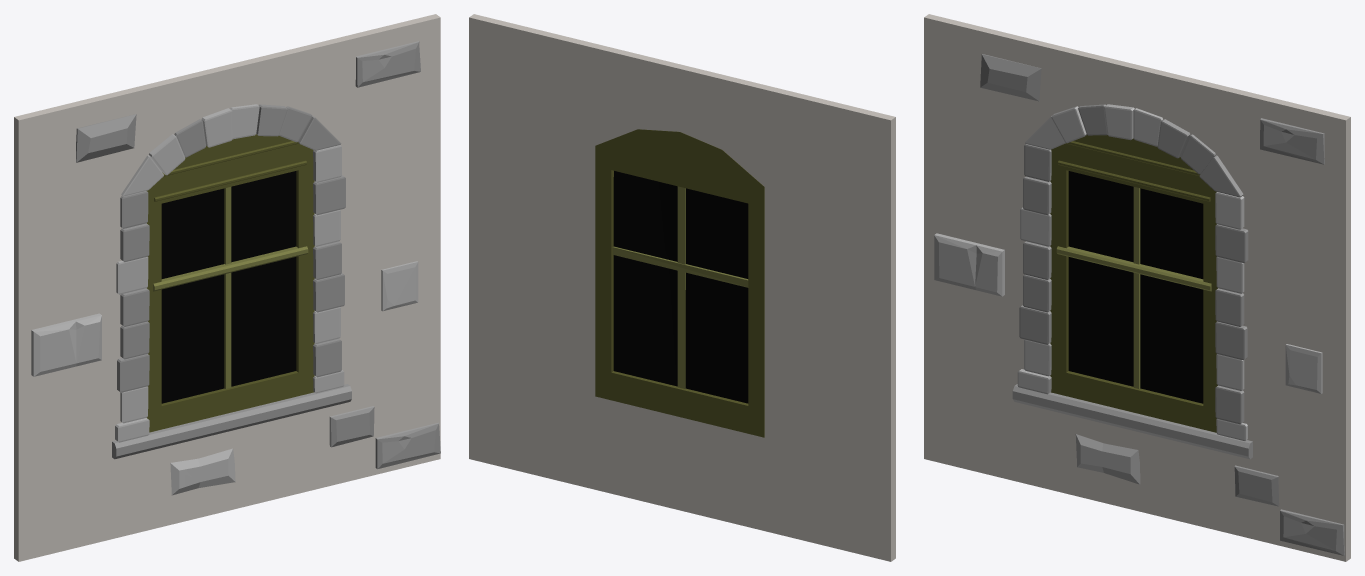
The model's file is _WINDOW_05_1.fbx.
3 views of the same model, side by side, from view 1: azimuth 30°, elevation 25°; view 2: azimuth 150°, elevation 25°; view 3: azimuth 330°, elevation 25° (orthographic).
Parts seen in each view (by area): view 1: WINDOW_05_1; view 2: WINDOW_05_1; view 3: WINDOW_05_1.
Boxes of the visible parts, x1,y1,x2,y2 form: WINDOW_05_1: [14, 14, 440, 561]; WINDOW_05_1: [469, 14, 895, 561]; WINDOW_05_1: [924, 14, 1350, 561].
Size of the model in its own units: 300 by 300 by 11.47.
